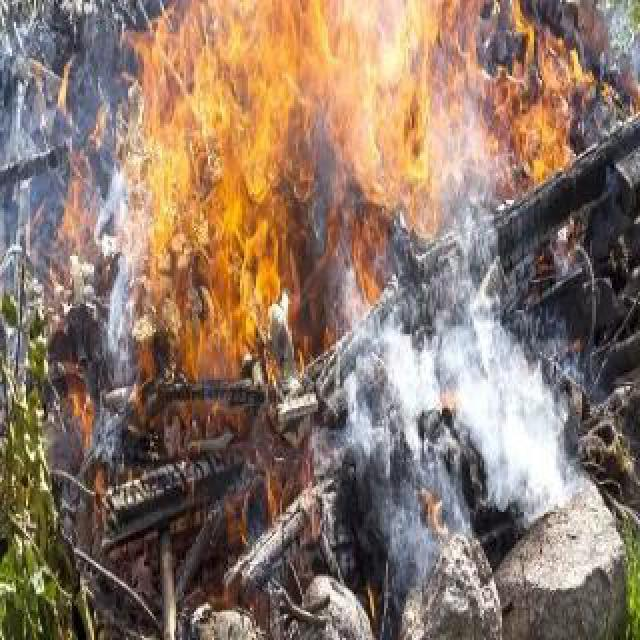smoke: (328, 260, 604, 600)
zfire: (123, 0, 338, 381), (338, 1, 600, 258)
